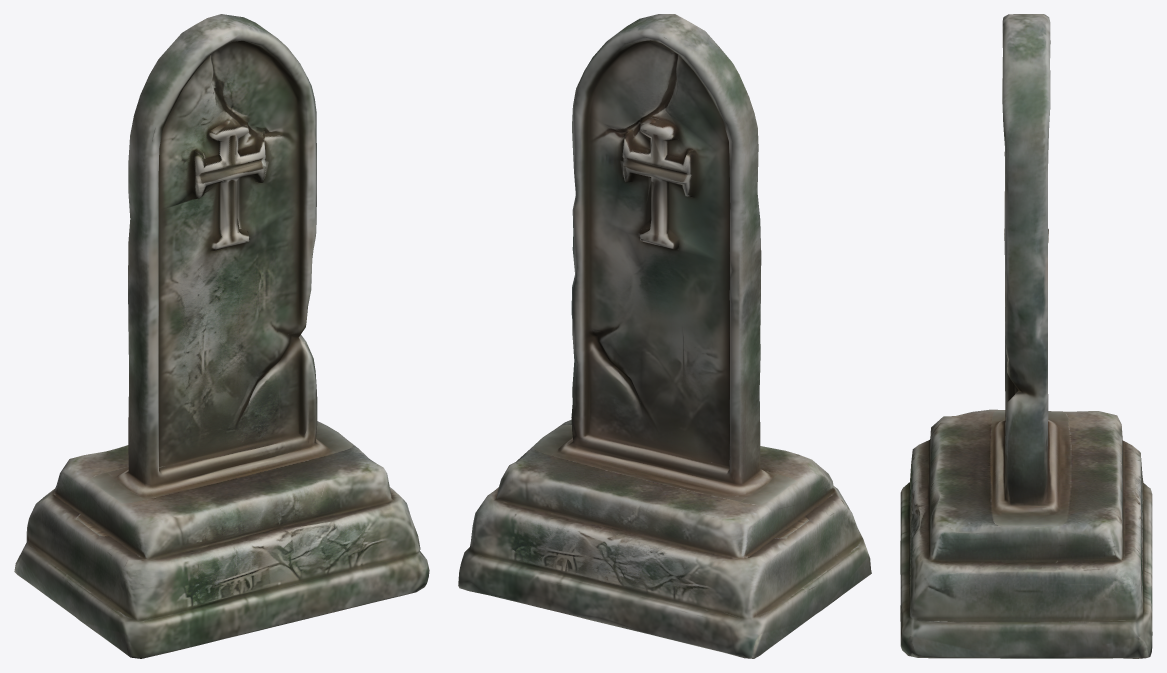
File: Meshy_AI_mezar3_0117155752_texture.fbx
3 views of the same model, side by side, from view 1: azimuth 30°, elevation 25°; view 2: azimuth 150°, elevation 25°; view 3: azimuth 270°, elevation 25° (orthographic).
Visible parts, largest first — view 1: Mesh_0; view 2: Mesh_0; view 3: Mesh_0.
Boxes of the visible parts, x1,y1,x2,y2 form: Mesh_0: (14,14,429,658); Mesh_0: (458,14,871,658); Mesh_0: (900,14,1152,658).
Size of the model in its own units: 107 by 191 by 77.14.
1 material, 1 textured.
